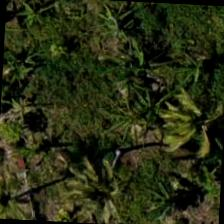Kelapa_Sawit: (49, 144, 145, 223), (150, 69, 223, 165), (0, 156, 50, 221)
